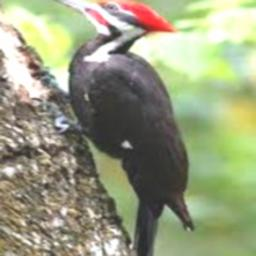Woodpecker: (41, 0, 193, 256)
